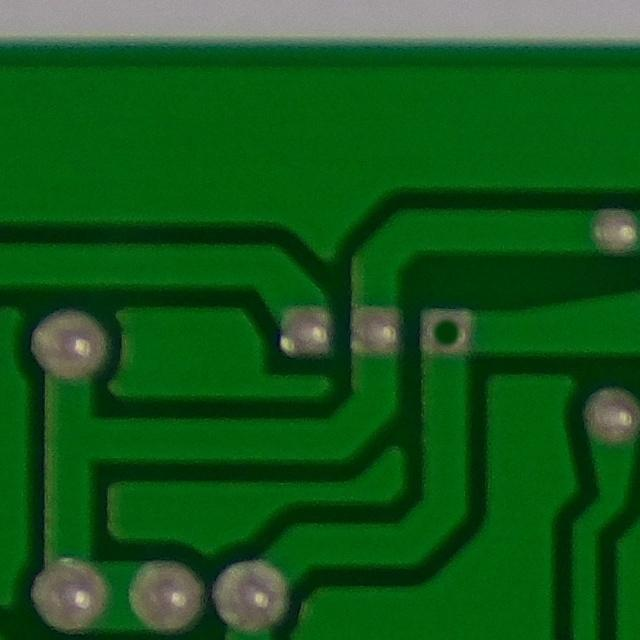missing_hole: (411, 294, 478, 363)
